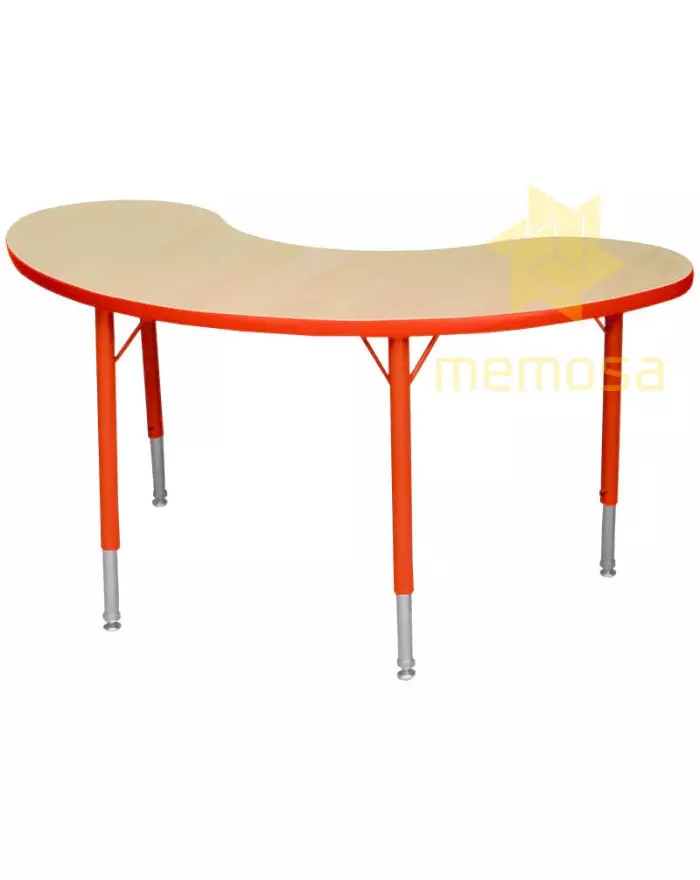m01: (5, 200, 695, 681)
